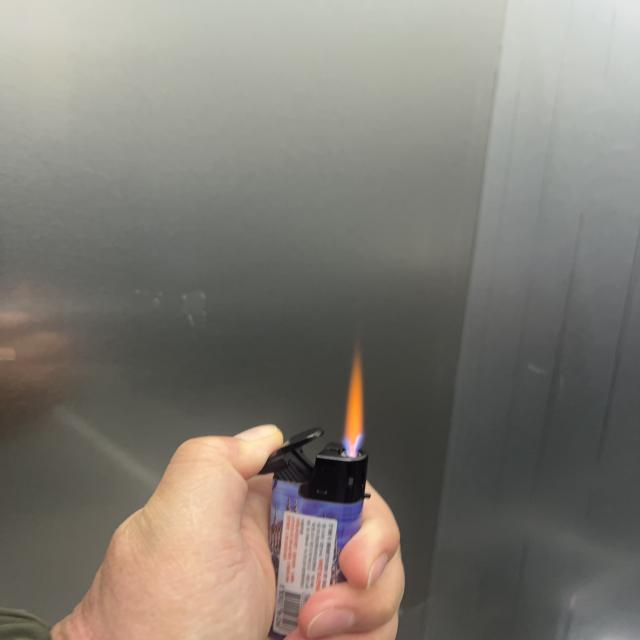fire: (341, 351, 368, 451)
